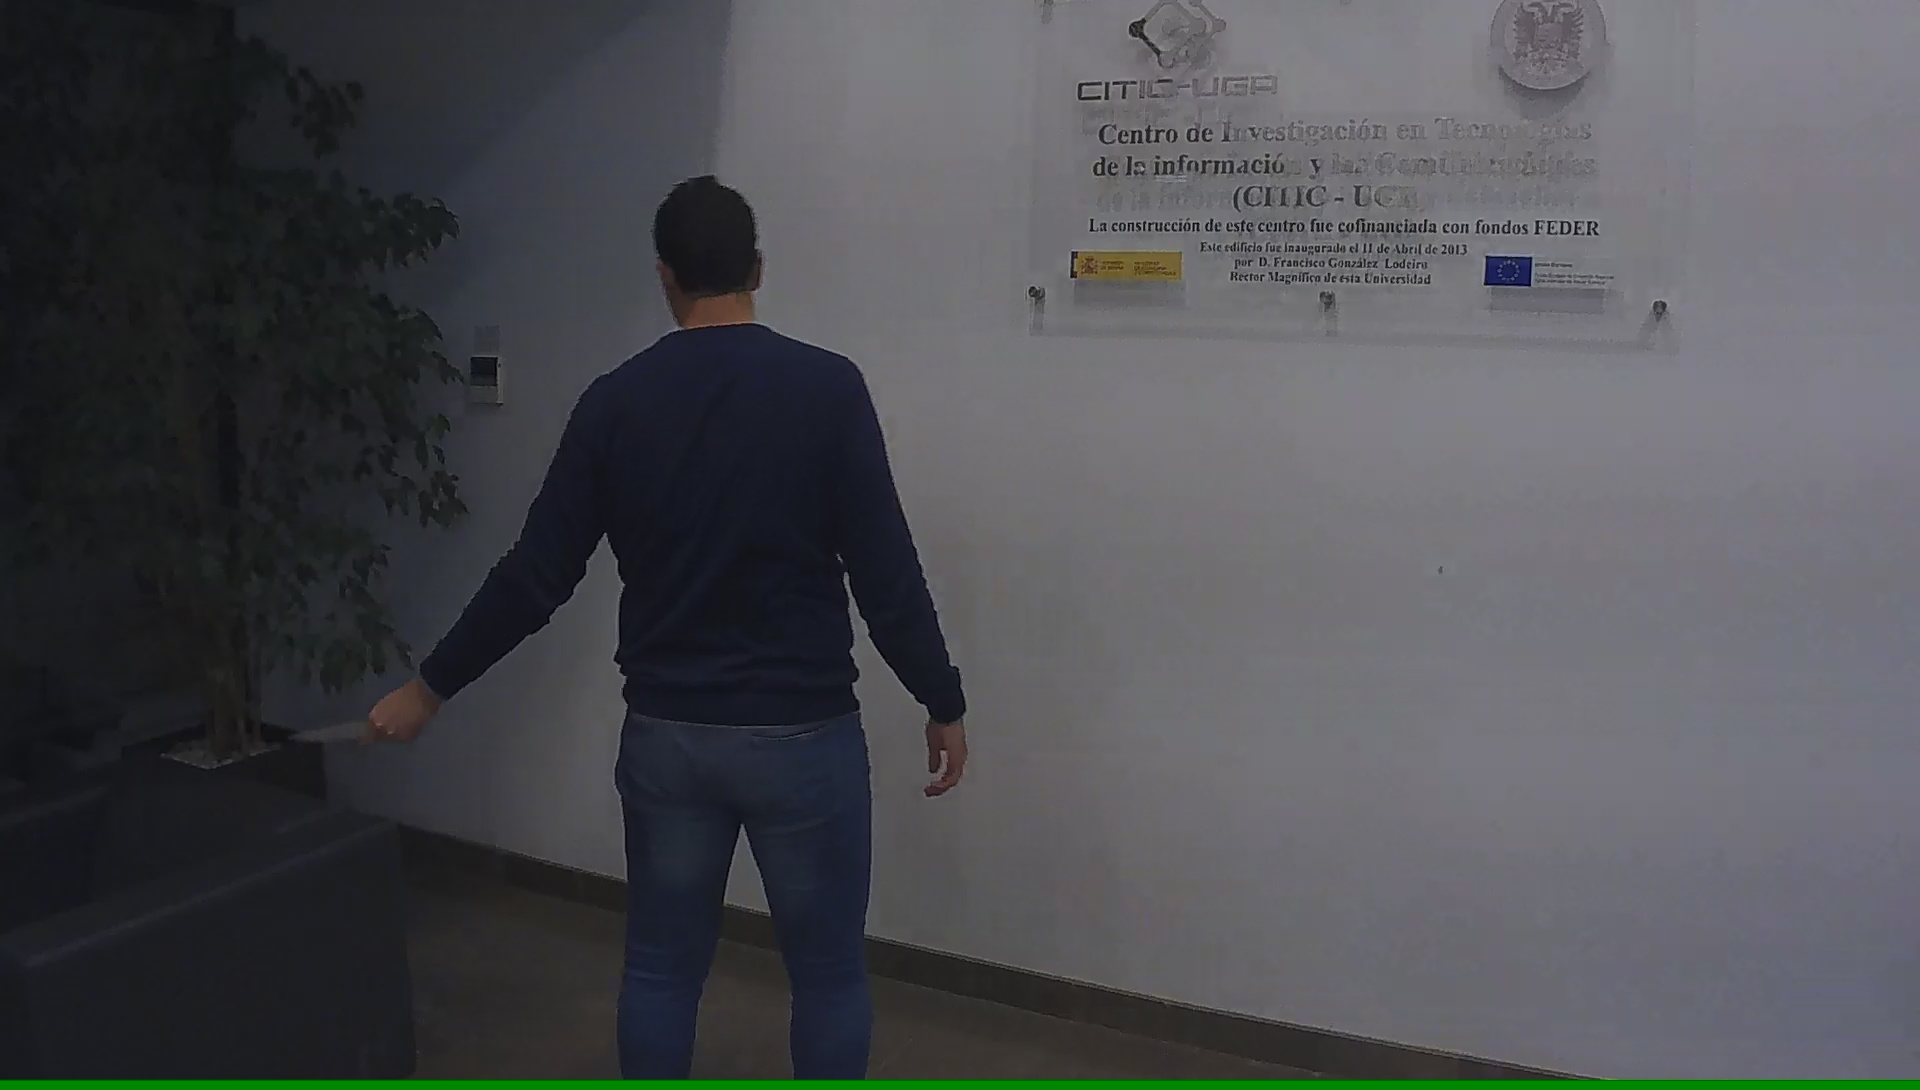knife: (282, 706, 413, 749)
